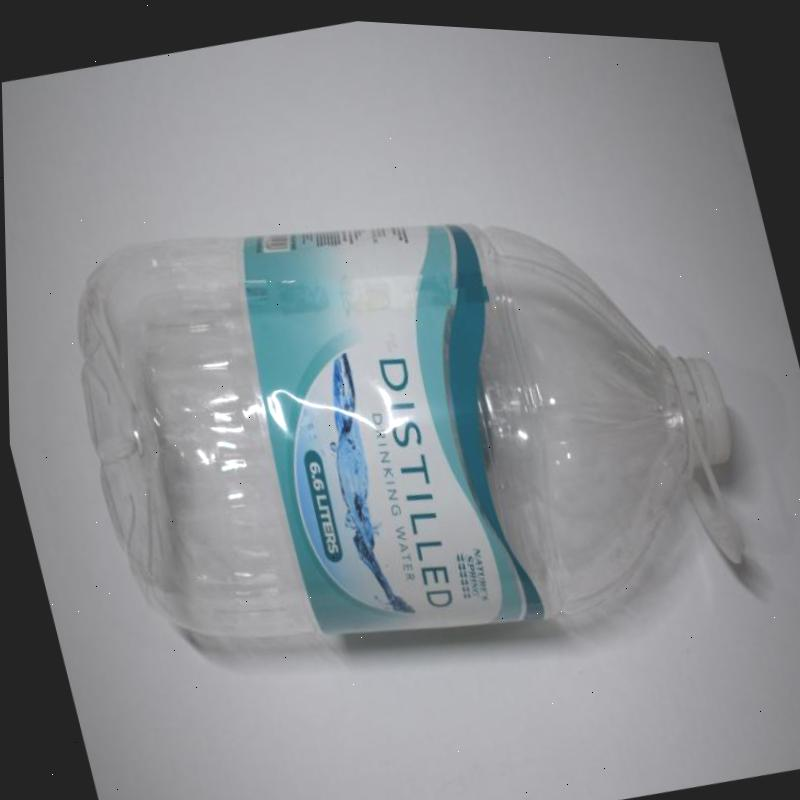botella: (40, 111, 772, 727)
